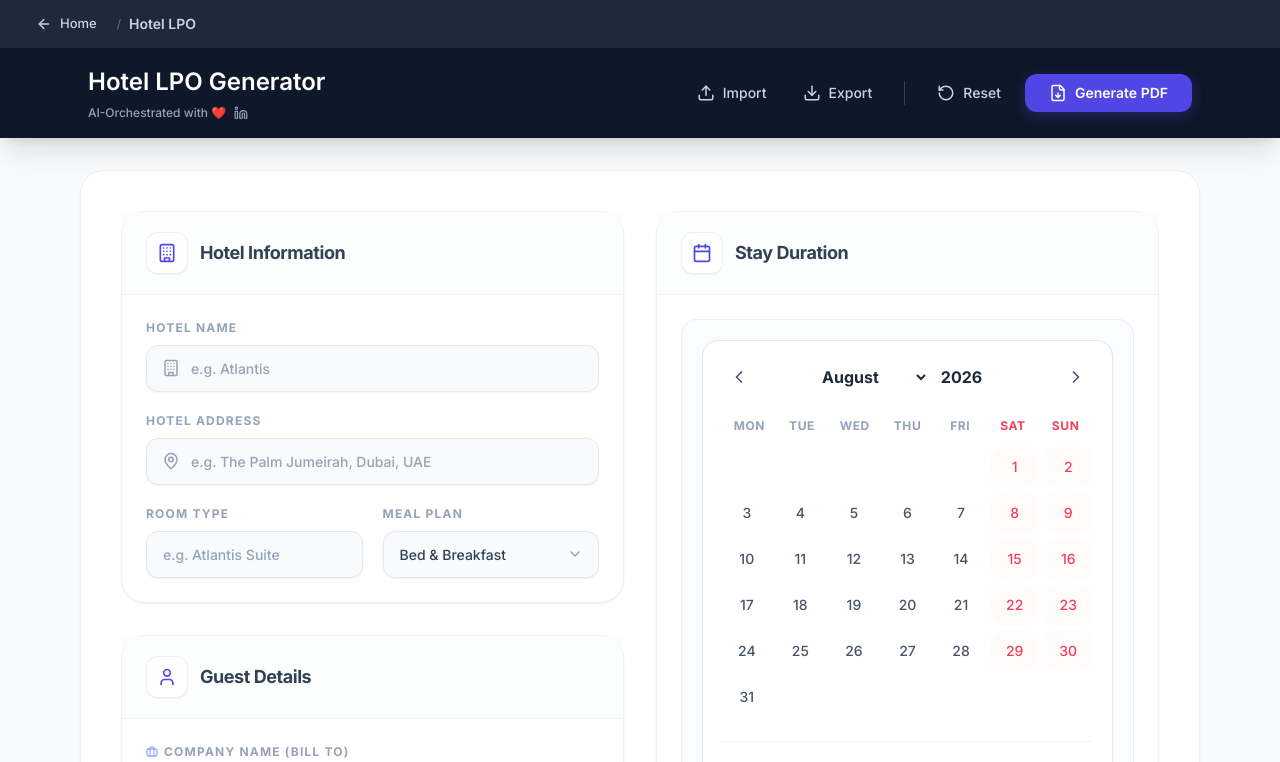
HotelLPOModule › handles reset functionality
The width and height of the screenshot is (1280, 762).
Step 1. Type "Test Hotel Reset" into the field with placeholder "e.g. Atlantis" → point(372, 368), box [146, 344, 599, 392]
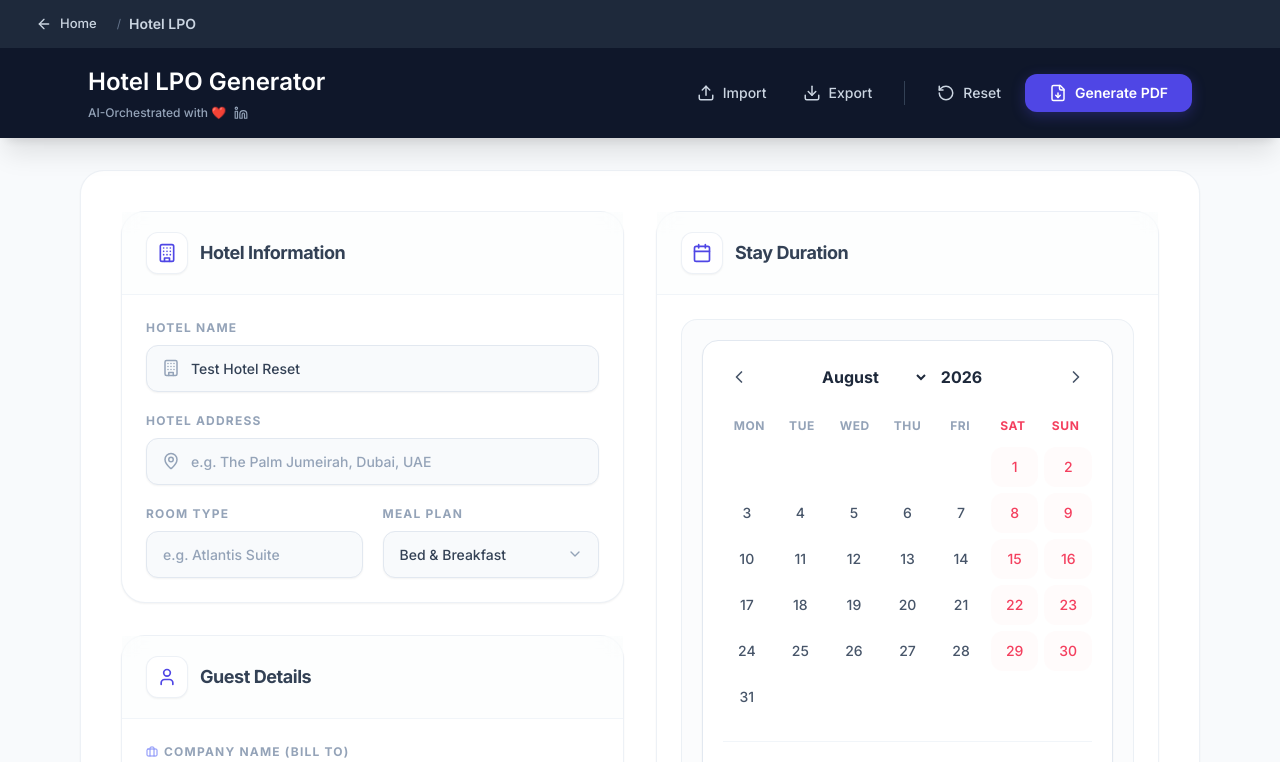
Step 2. Click the button titled "Reset Form" → point(969, 92), box [925, 76, 1013, 110]
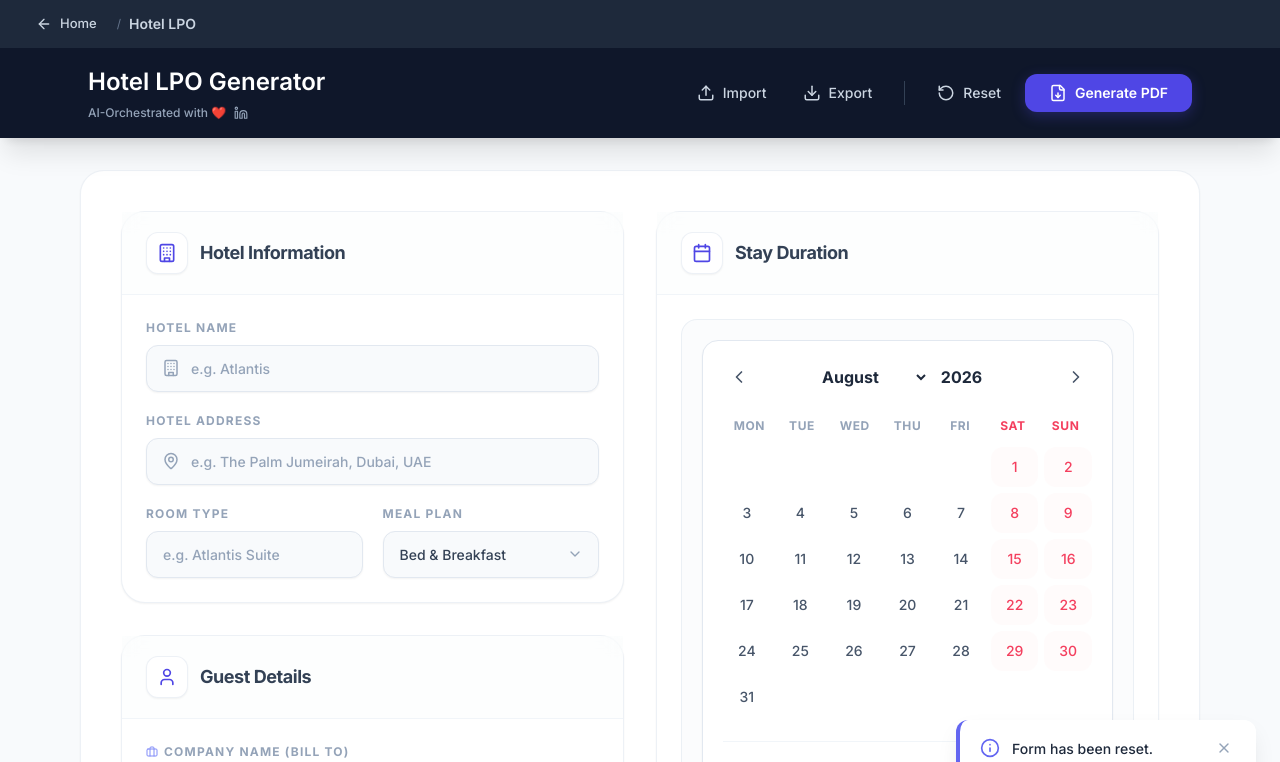
Now the field with placeholder "e.g. Atlantis" is empty, box [146, 344, 599, 392]
